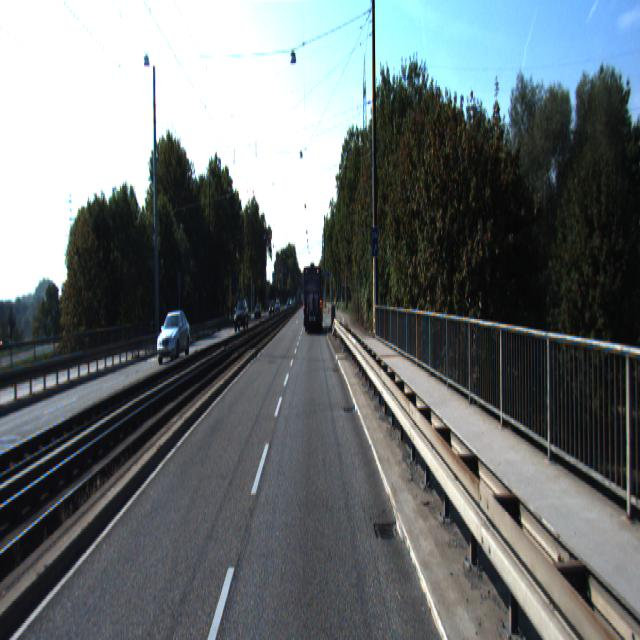Car: (155, 311, 192, 365), (304, 264, 325, 334), (234, 300, 249, 333)
